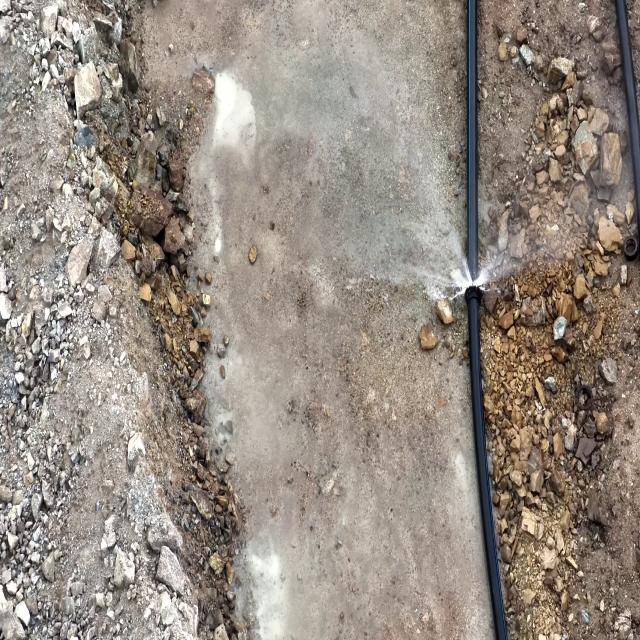leak: (357, 154, 582, 313)
